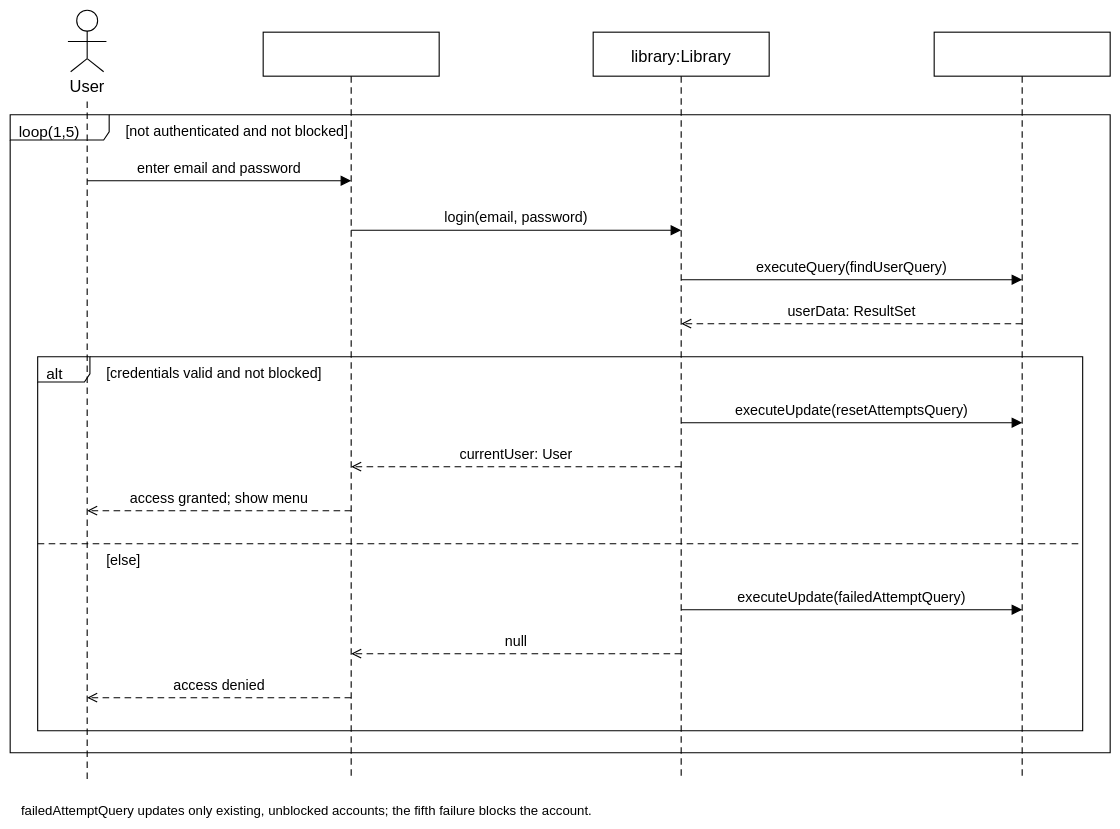
Image size: 1120x829. Some labels were removed from this diagram. The shapes that lost their labels are listed below. From the top down, each one's box as (x1, y1, x2, y2) in pixels, then its label:
(262, 31, 439, 76): ui:UserInterface
(933, 31, 1110, 76): db:DBConnector
